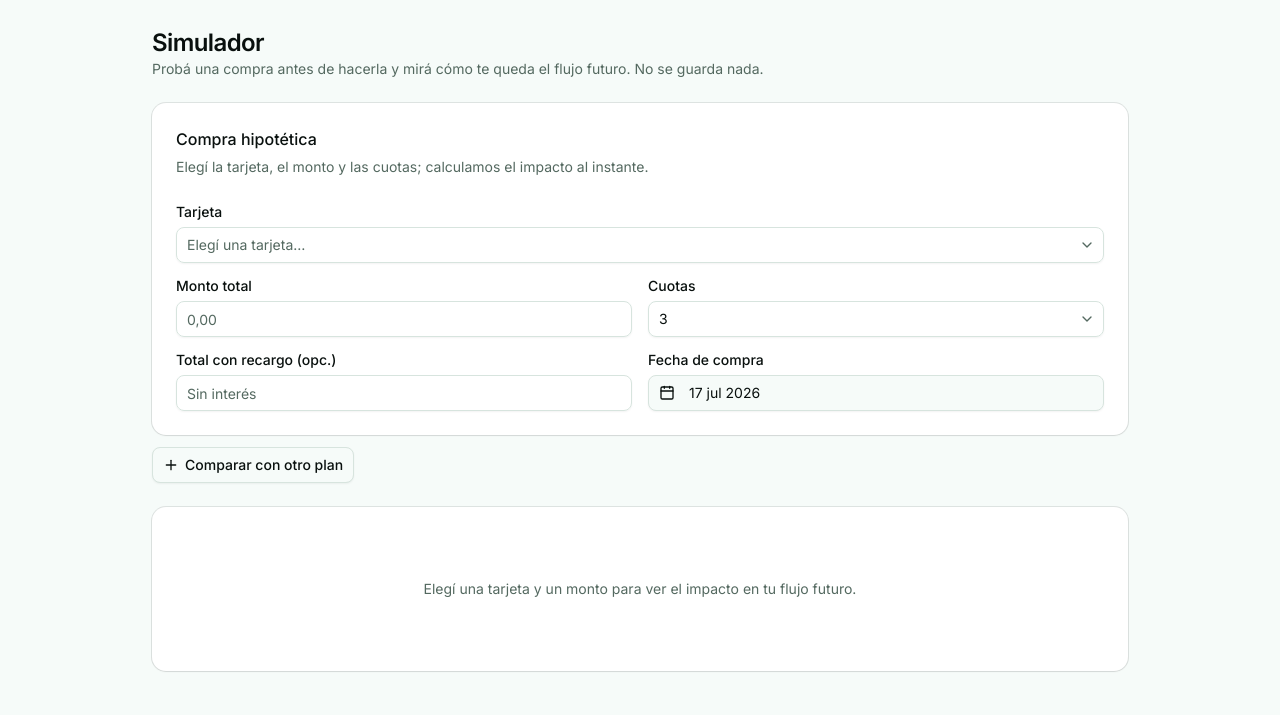
Test: SimulatorClient › una tarjeta con límite proyecta la utilización tras la compra
Step 1. Click the dropdown labelled "Elegí una tarjeta…" → (246, 244), box [176,227,1104,263]
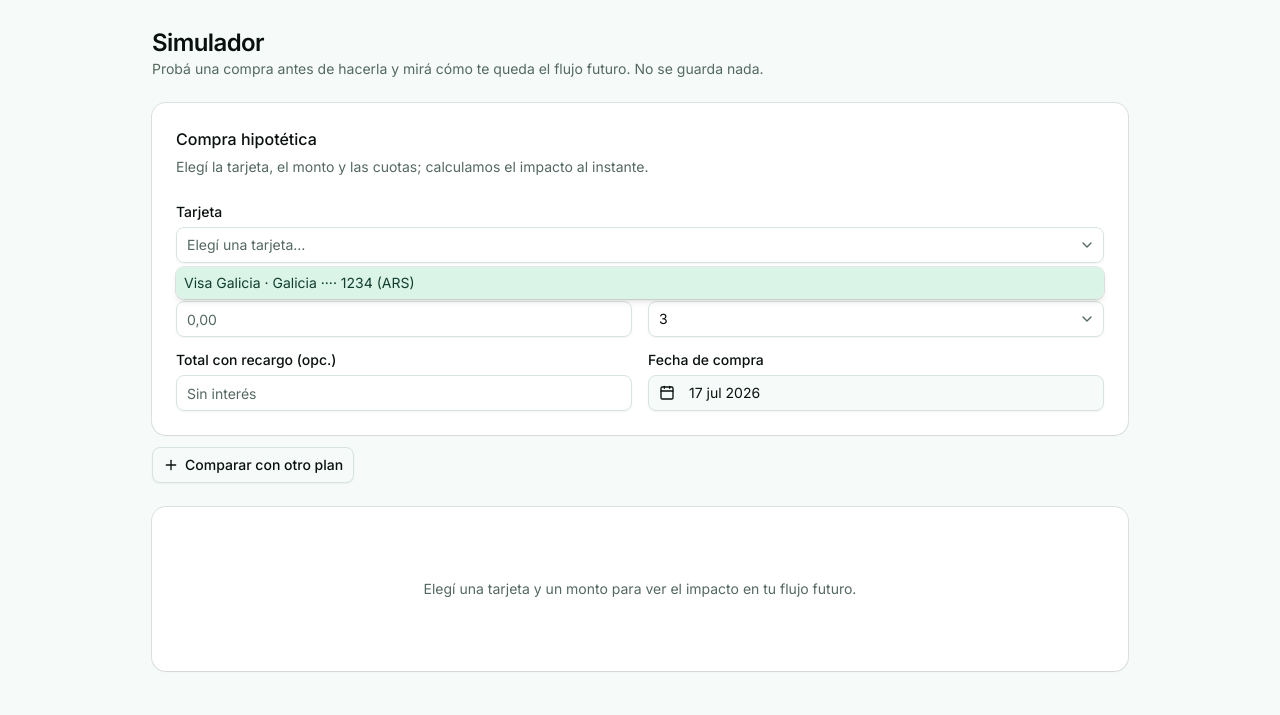
Step 2. Click the option "Visa Galicia · Galicia ···· 1234 (ARS)" → (222, 282), box [176,267,1104,299]
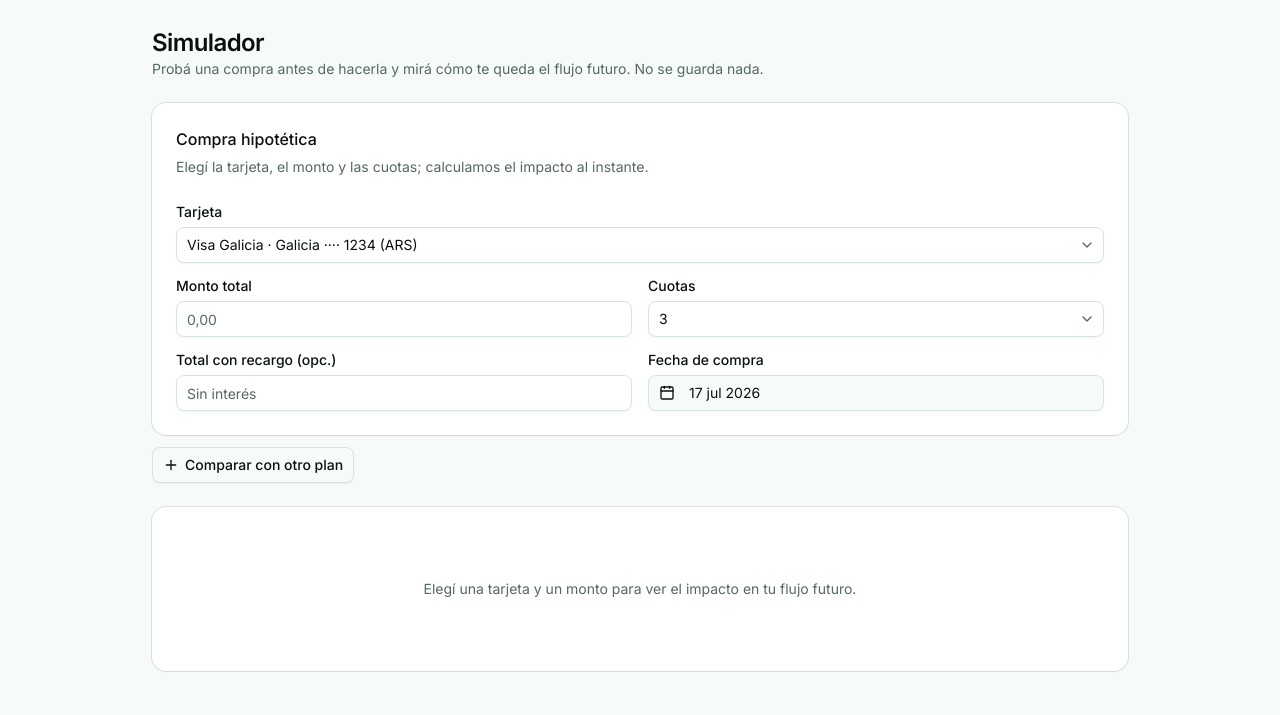
Step 3. Type "30000" into the number field labelled "Monto total" → (404, 319), box [176,301,632,337]
(page scrolled)
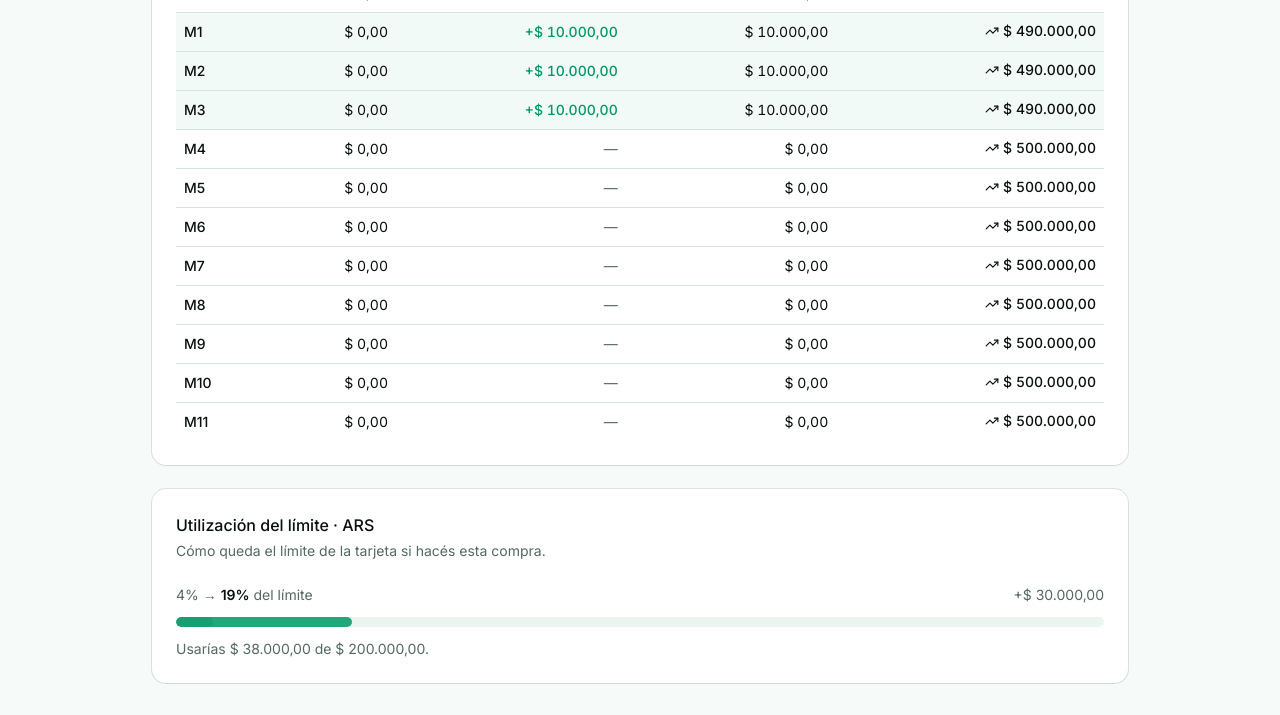
Check: the text "Utilización del límite · ARS" is shown, box [176,514,374,534]
Check: the text "19%" is shown, box [221,586,250,602]
